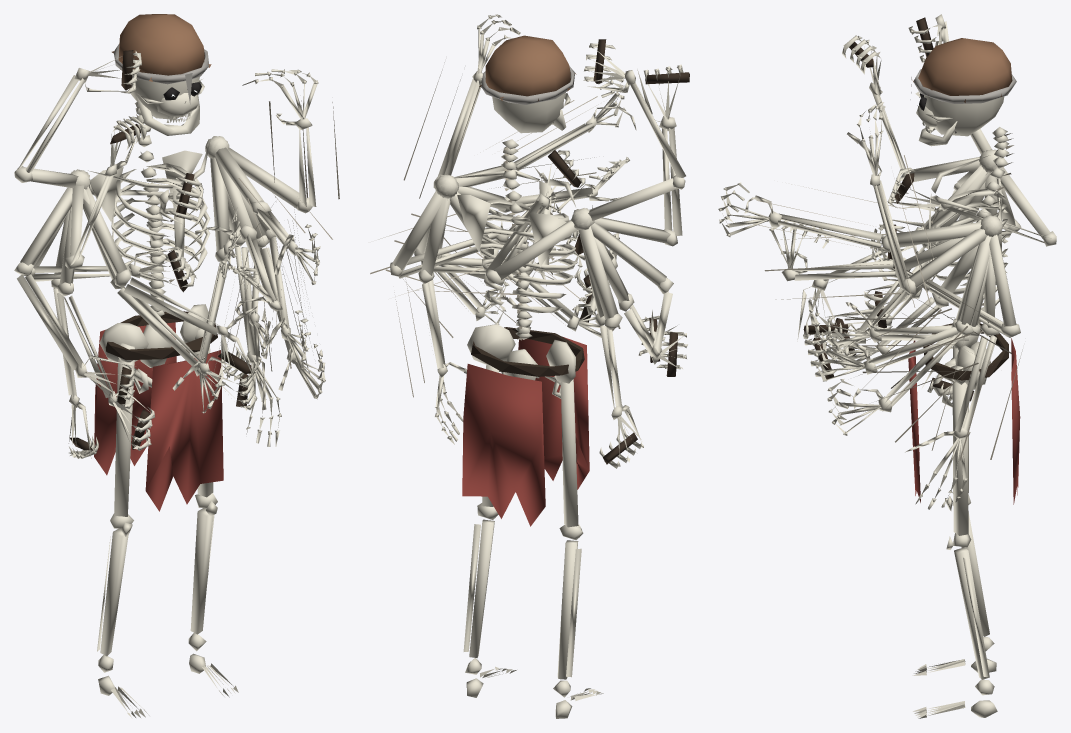
File: undead_bare.glb
The picture shows the model from 3 angles, left to right: view 1: azimuth 30°, elevation 25°; view 2: azimuth 150°, elevation 25°; view 3: azimuth 270°, elevation 25°; orthographic projection. The views are drawn at different scales.
Visible parts, largest first — view 1: B_0d, R.staffR_5d, R.xbowR_8d, L.cast_15d, R.raised_3d, L.twoL_13d, R.cast_6d, R.weapon_2d, L.bowArm_12d, R.twoR_7d, L.xbowL_14d, L.rest_10d (+7 smaller); view 2: B_0d, R.cast_6d, R.draw_4d, R.raised_3d, L.rest_10d, L.carry_17d, L.bowArm_12d, R.rest_1d, L.cast_15d, R.weapon_2d, R.staffR_5d, L.xbowL_14d (+5 smaller); view 3: B_0d, L.shield_11d, L.bowArm_12d, L.cast_15d, L.rest_10d, L.xbowL_14d, L.weapon_18d, L.book_16d, L.carry_17d, R.draw_4d, R.cast_6d, L.twoL_13d (+6 smaller).
Part boxes in pixels (x1=…): B_0d: x1=88, y1=14, x2=238, y2=718; R.staffR_5d: x1=14, y1=169, x2=136, y2=410; R.xbowR_8d: x1=76, y1=174, x2=257, y2=383; L.cast_15d: x1=207, y1=69, x2=339, y2=213; R.raised_3d: x1=14, y1=50, x2=141, y2=188; L.twoL_13d: x1=172, y1=137, x2=248, y2=413; R.cast_6d: x1=65, y1=116, x2=146, y2=269; R.weapon_2d: x1=57, y1=170, x2=154, y2=450; L.bowArm_12d: x1=205, y1=137, x2=332, y2=284; R.twoR_7d: x1=72, y1=170, x2=257, y2=410; L.xbowL_14d: x1=207, y1=136, x2=298, y2=316; L.rest_10d: x1=208, y1=136, x2=291, y2=446; B_0d: x1=454, y1=35, x2=603, y2=718; R.cast_6d: x1=572, y1=64, x2=689, y2=246; R.draw_4d: x1=485, y1=150, x2=590, y2=284; R.raised_3d: x1=574, y1=39, x2=685, y2=226; L.rest_10d: x1=394, y1=177, x2=467, y2=444; L.carry_17d: x1=370, y1=167, x2=560, y2=295; L.bowArm_12d: x1=435, y1=76, x2=636, y2=197; R.rest_1d: x1=575, y1=210, x2=643, y2=468; L.cast_15d: x1=403, y1=14, x2=520, y2=198; R.weapon_2d: x1=571, y1=208, x2=687, y2=376; R.staffR_5d: x1=574, y1=210, x2=673, y2=362; L.xbowL_14d: x1=437, y1=157, x2=629, y2=212; B_0d: x1=908, y1=38, x2=1020, y2=718; L.shield_11d: x1=814, y1=218, x2=1002, y2=401; L.bowArm_12d: x1=718, y1=182, x2=1001, y2=252; L.cast_15d: x1=847, y1=101, x2=1001, y2=307; L.rest_10d: x1=905, y1=216, x2=1022, y2=509; L.xbowL_14d: x1=764, y1=215, x2=1001, y2=299; L.weapon_18d: x1=827, y1=215, x2=1000, y2=442; L.book_16d: x1=808, y1=216, x2=1001, y2=372; L.carry_17d: x1=870, y1=215, x2=1020, y2=353; R.draw_4d: x1=887, y1=151, x2=1056, y2=246; R.cast_6d: x1=842, y1=35, x2=995, y2=182; L.twoL_13d: x1=828, y1=216, x2=1003, y2=388.
Bounding box in the file's own units: 0.8941 × 1.88 × 0.8829.
